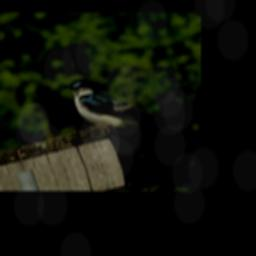Swallow: (65, 58, 186, 153)
